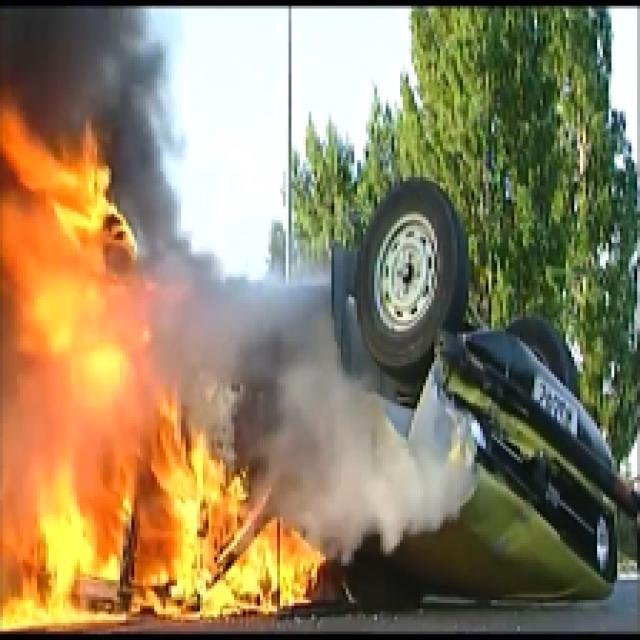Fire: (3, 105, 323, 638)
Smoke: (200, 268, 477, 546), (3, 2, 166, 152)
